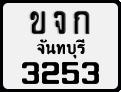letters: (41, 61, 60, 85), (21, 61, 39, 84), (82, 62, 100, 85), (62, 61, 79, 84), (74, 10, 90, 34), (30, 10, 45, 35), (53, 10, 66, 35)
province: (36, 38, 86, 59)
